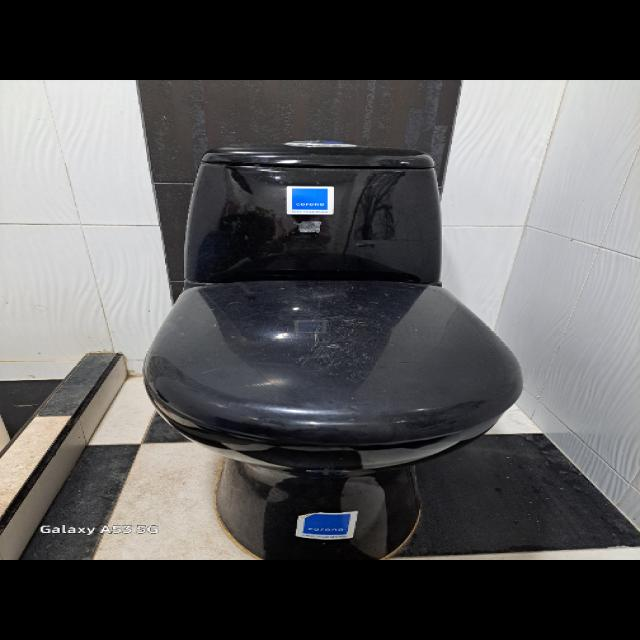toilet: (141, 140, 523, 560)
